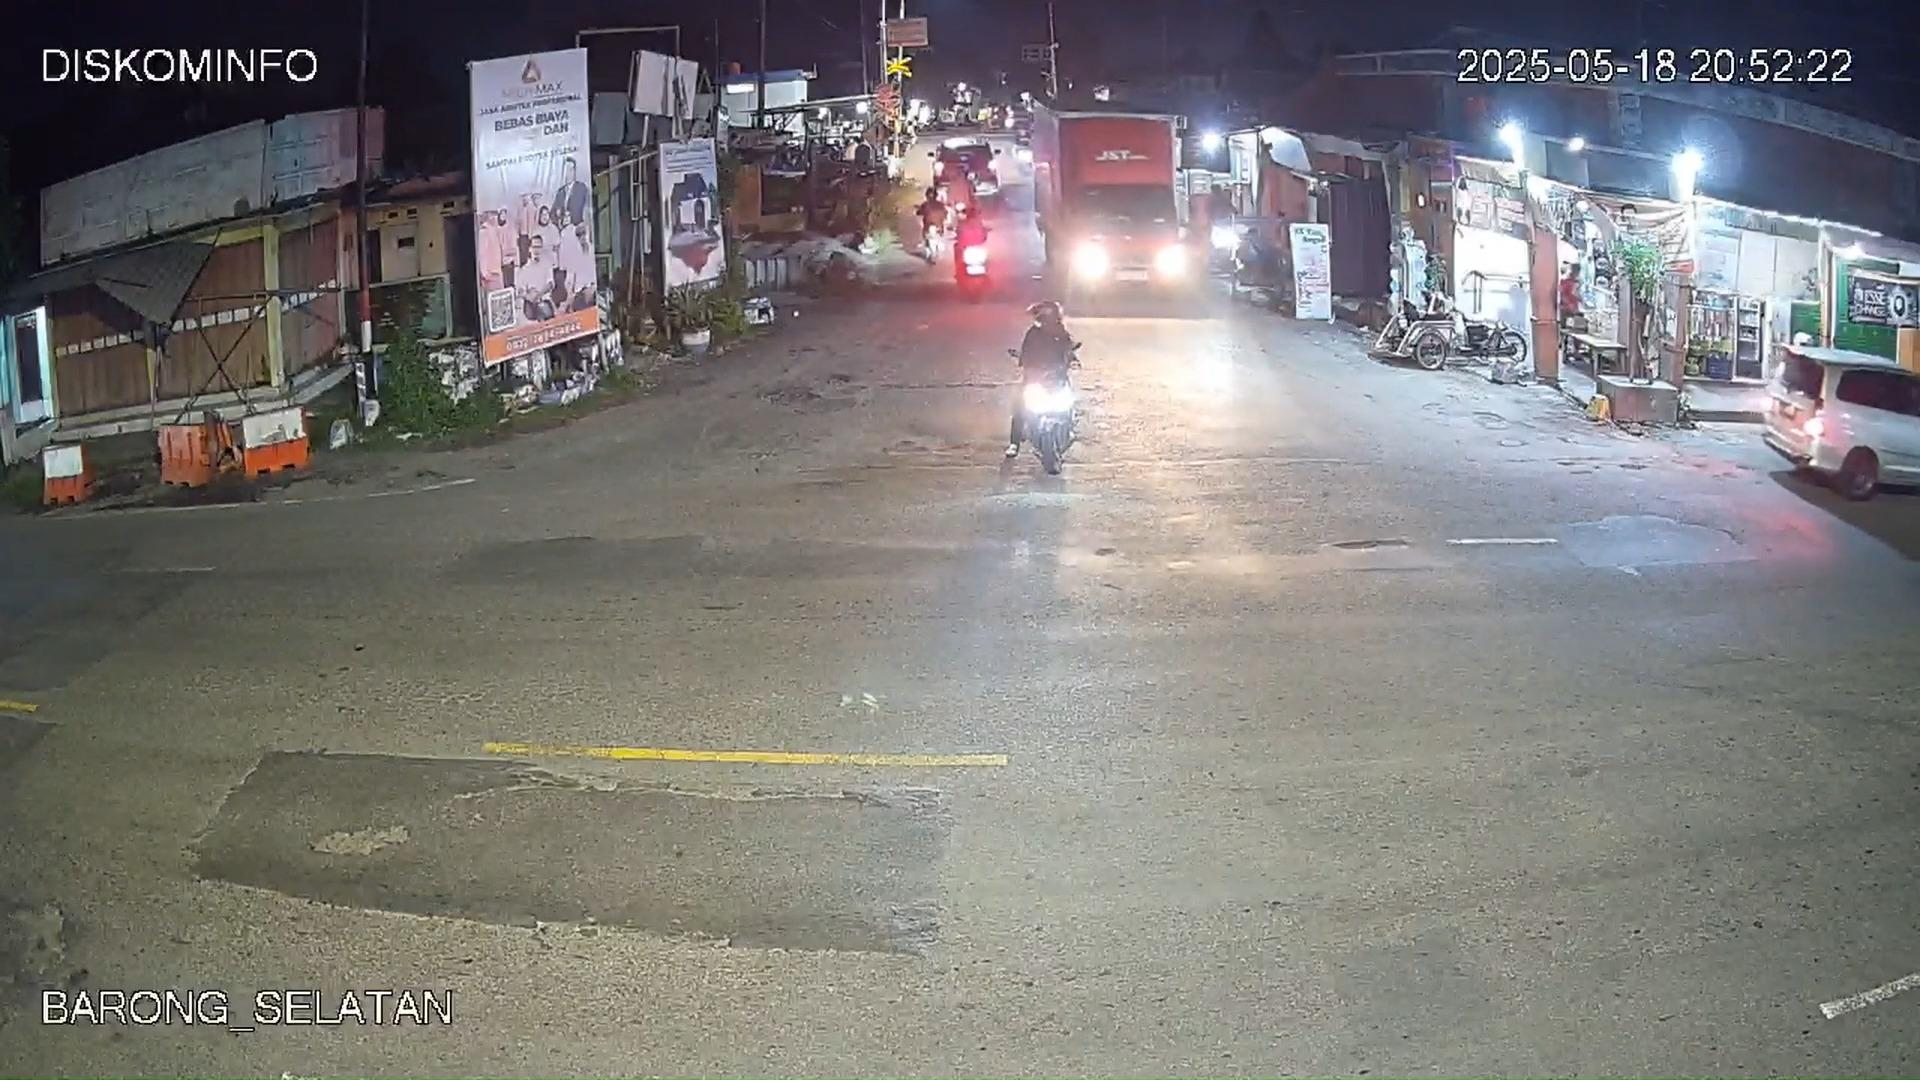Motor: (1000, 298, 1080, 462), (951, 196, 996, 297)
Truck: (1031, 94, 1178, 306)
mobil: (1760, 345, 1917, 498), (932, 137, 1001, 204), (1014, 131, 1034, 174), (1010, 115, 1033, 150)
